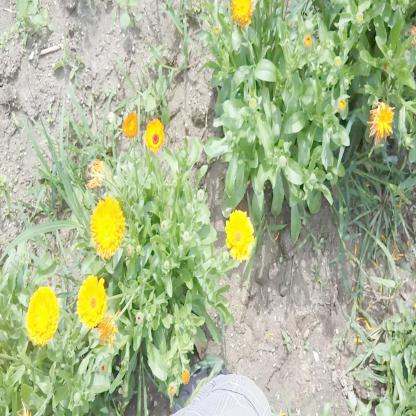marigold: (91, 198, 124, 259), (26, 287, 58, 345), (226, 210, 253, 262), (78, 278, 106, 326), (372, 99, 394, 137), (143, 116, 164, 152)
